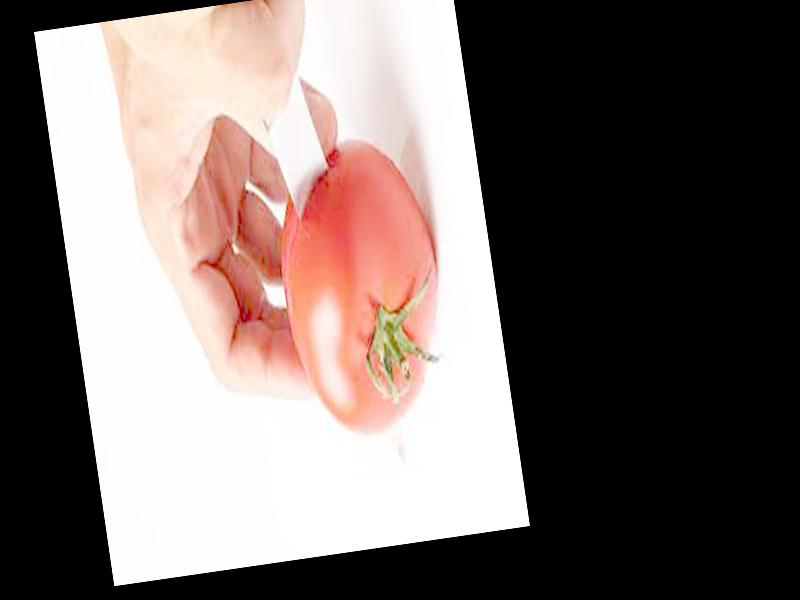Tomato: (263, 131, 457, 438)
